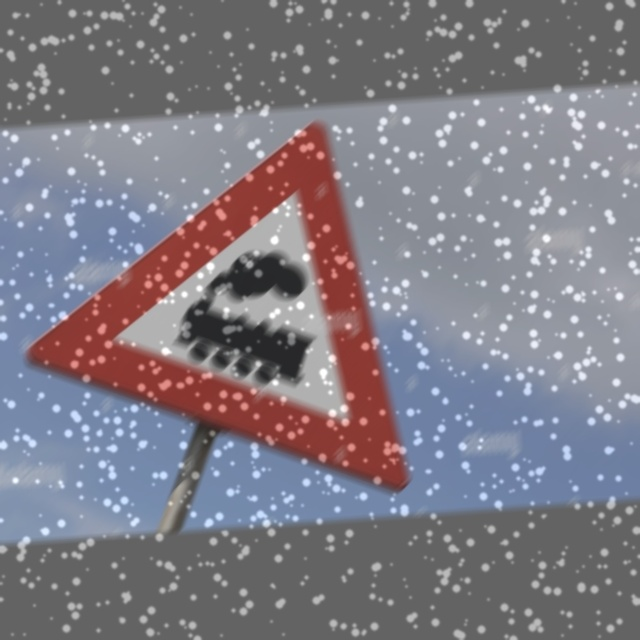Unguarded_Level_Crossing: (49, 121, 406, 465)
